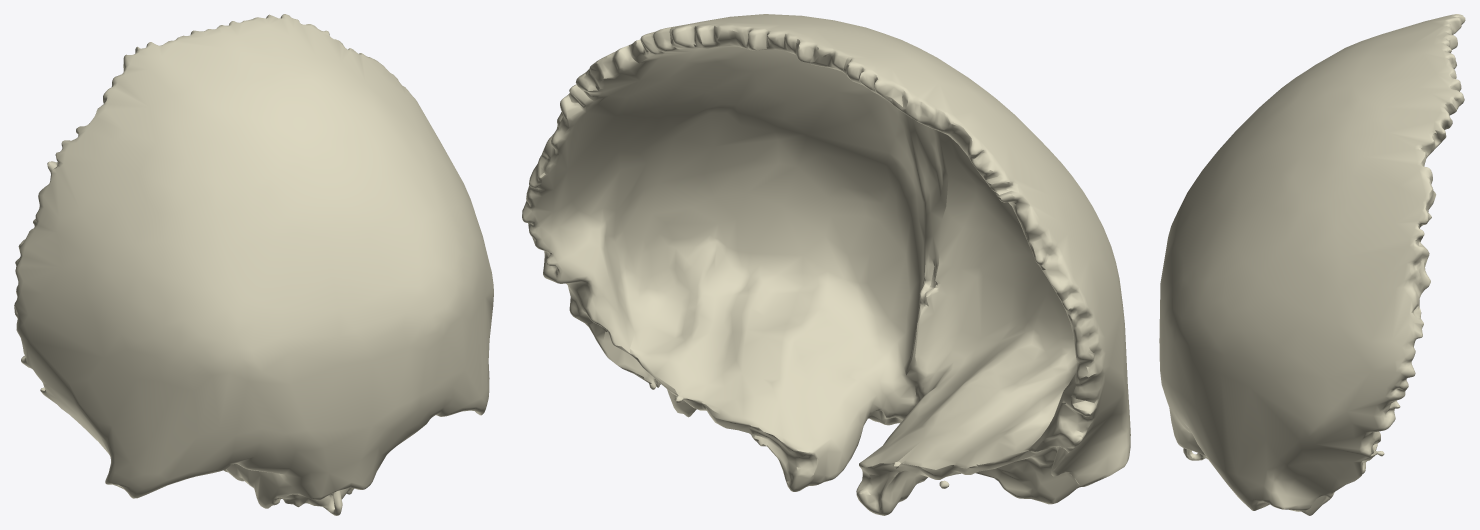
Rendered from frontal-bone.glb.
3 views of the same model, side by side, from view 1: azimuth 30°, elevation 25°; view 2: azimuth 150°, elevation 25°; view 3: azimuth 270°, elevation 25° (orthographic). The views are drawn at different scales.
Parts seen in each view (by area): view 1: grp1; view 2: grp1; view 3: grp1.
Boxes of the visible parts, left/top/right/bottom form: grp1: left=14, top=14, right=493, bottom=515; grp1: left=522, top=14, right=1130, bottom=515; grp1: left=1159, top=14, right=1465, bottom=515.
Bounding box in the file's own units: 0.1253 × 0.1091 × 0.0707.
